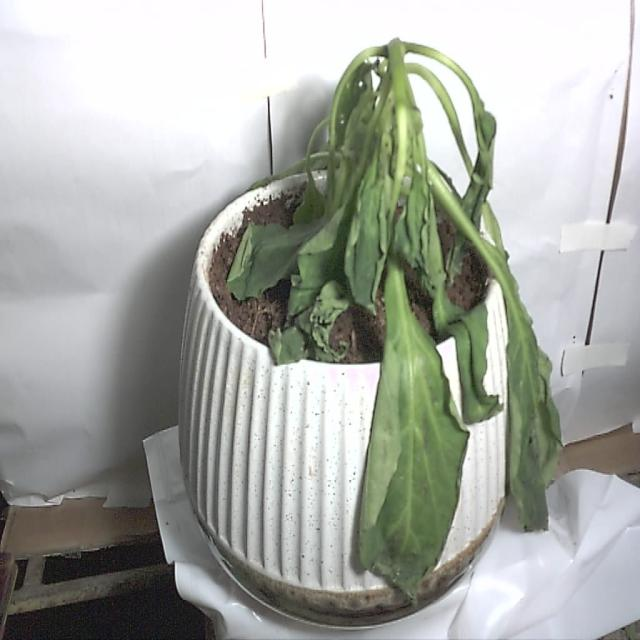Leaf: (355, 304, 467, 606), (498, 277, 563, 534)
